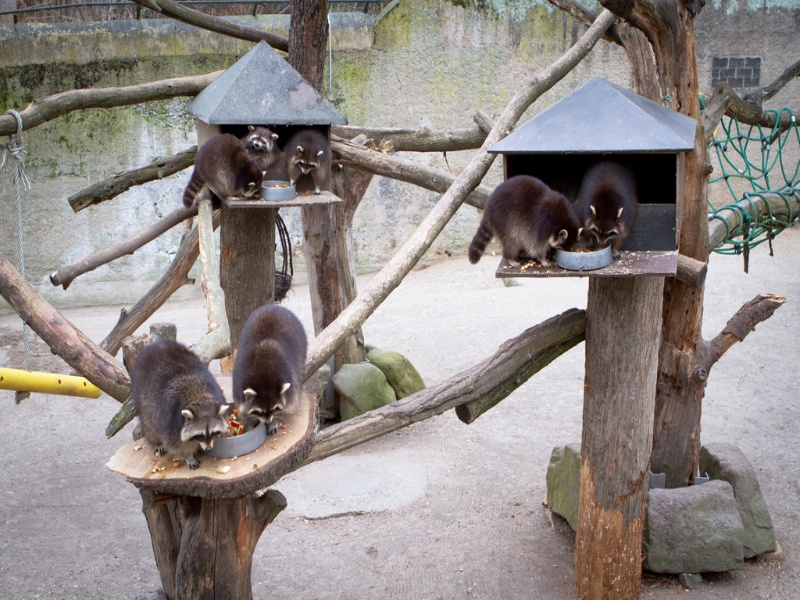raccoon: (119, 339, 233, 466), (467, 173, 583, 272), (231, 301, 309, 437), (179, 134, 267, 209), (572, 168, 640, 257), (281, 130, 333, 199), (244, 121, 279, 171)
